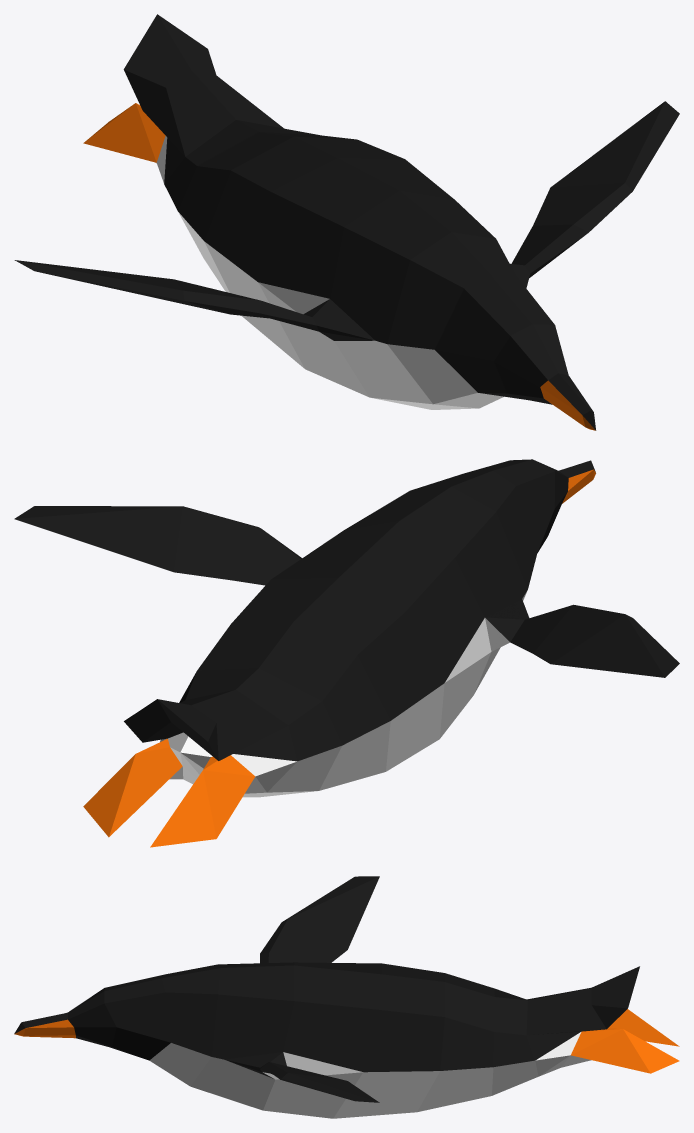
The model's file is Penguin.fbx.
The picture shows the model from 3 angles, top to bottom: view 1: azimuth 30°, elevation 25°; view 2: azimuth 150°, elevation 25°; view 3: azimuth 270°, elevation 25°; orthographic projection. The views are drawn at different scales.
Parts seen in each view (by area): view 1: Cube; view 2: Cube; view 3: Cube.
Part boxes in pixels (left/top/right/bottom): Cube: left=14, top=14, right=679, bottom=430; Cube: left=14, top=459, right=679, bottom=847; Cube: left=14, top=876, right=679, bottom=1118.
Bounding box in the file's own units: 219 × 66.17 × 272.
